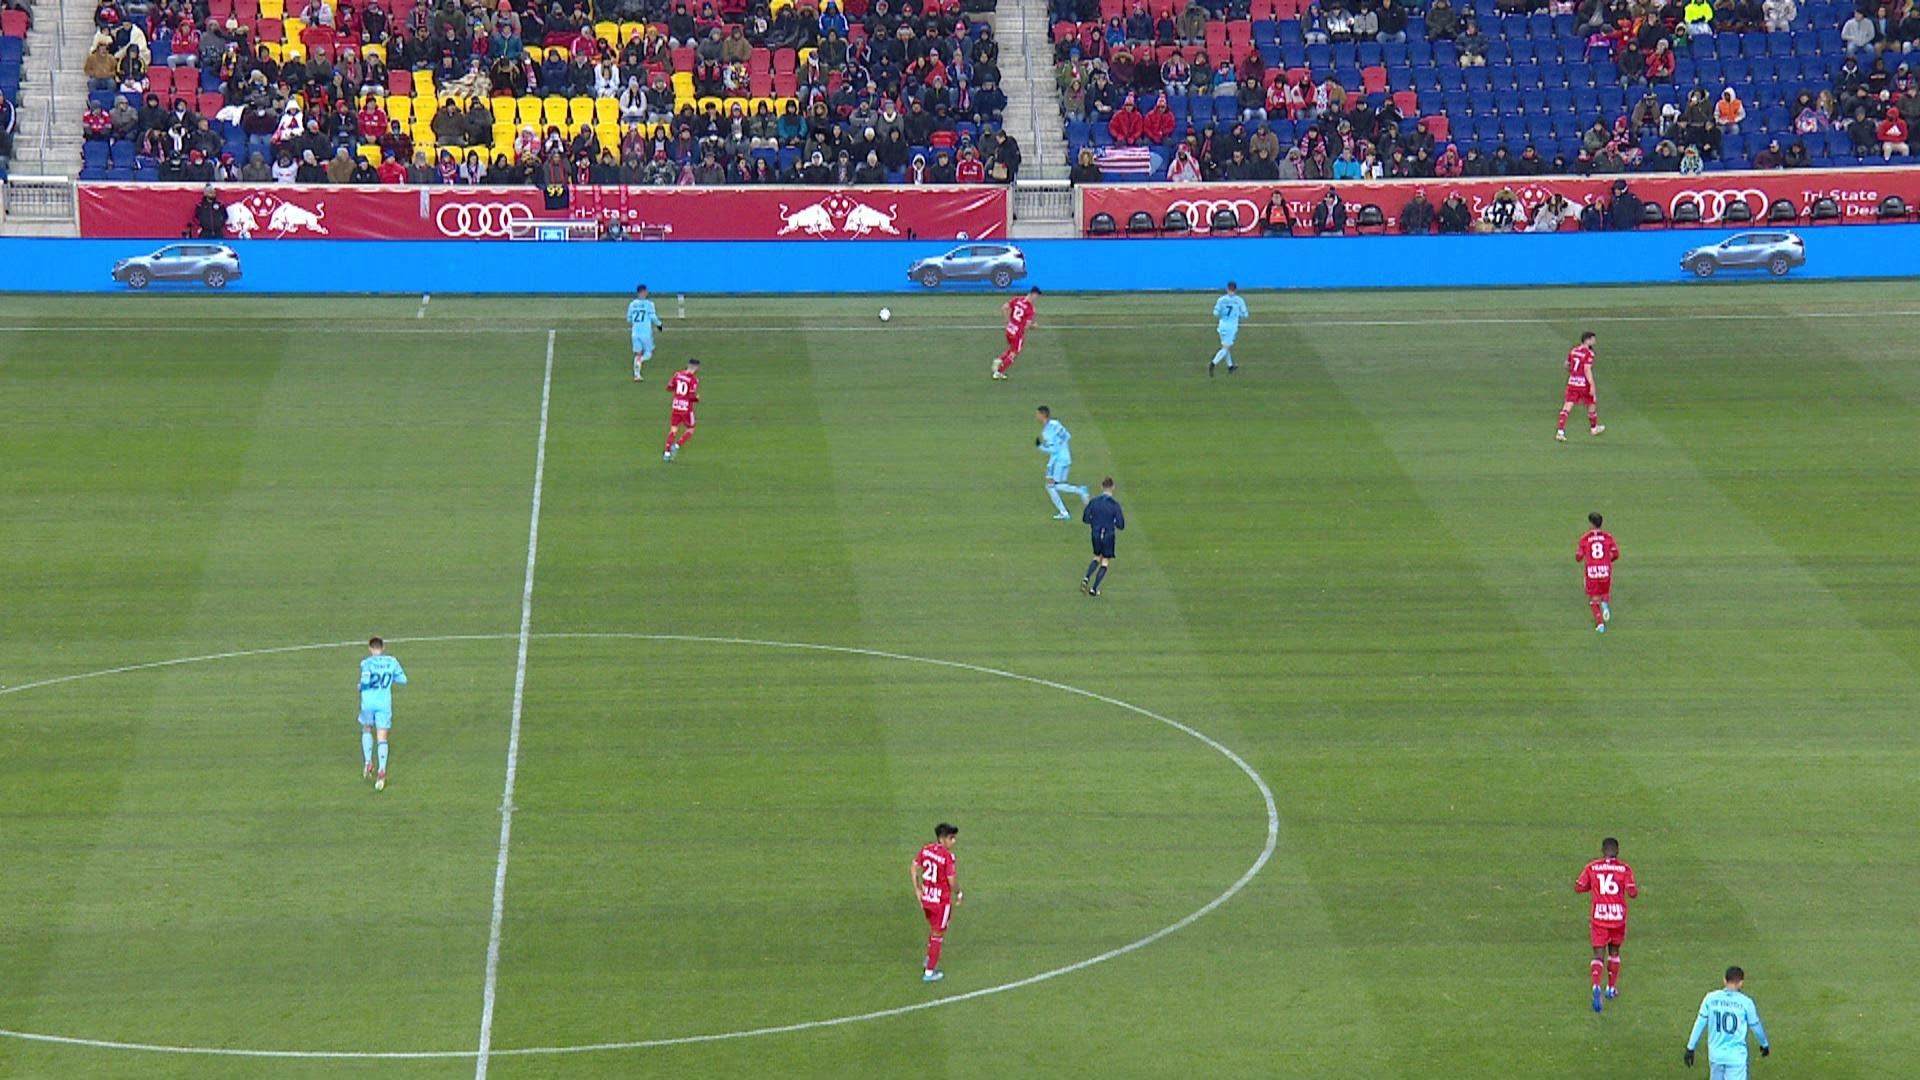football: (878, 306, 893, 322)
